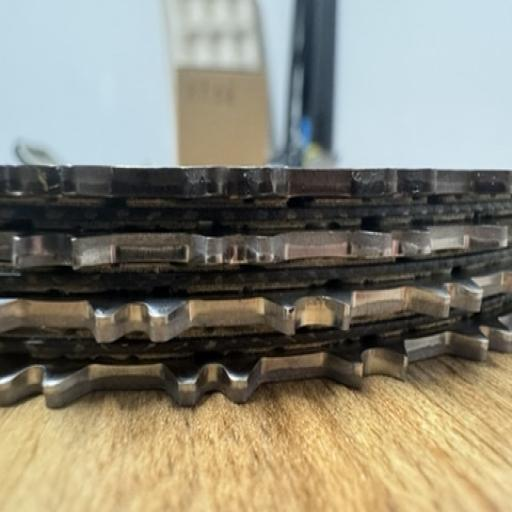black metal plate: (1, 166, 511, 200)
shiney metal plate: (0, 314, 511, 408), (0, 269, 511, 334), (0, 221, 511, 269)
spacer: (1, 295, 511, 360), (1, 248, 511, 299), (1, 201, 511, 230)
